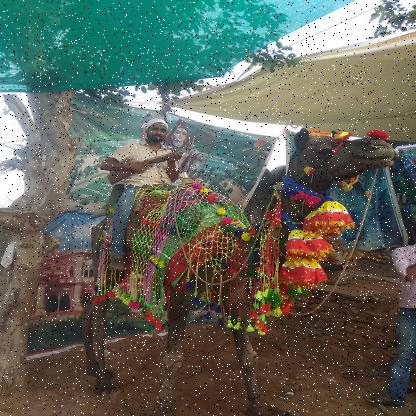rifle: (107, 138, 230, 186)
